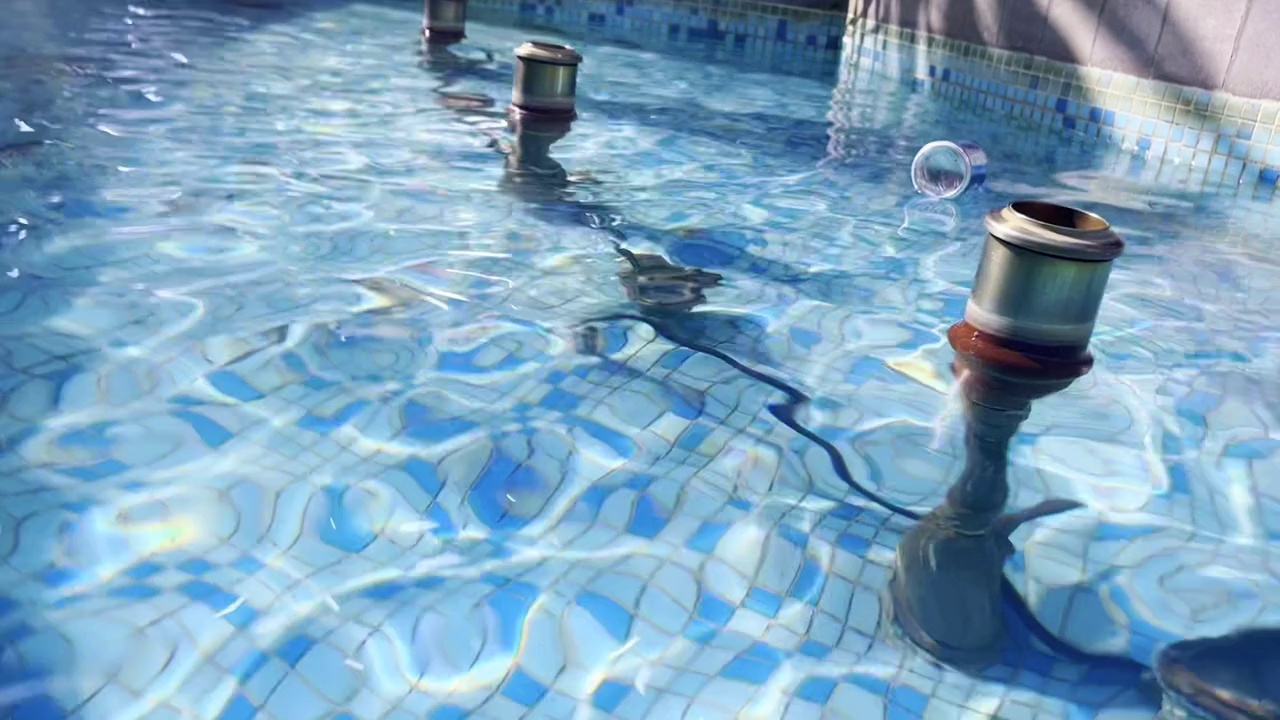debris: (910, 121, 995, 204)
